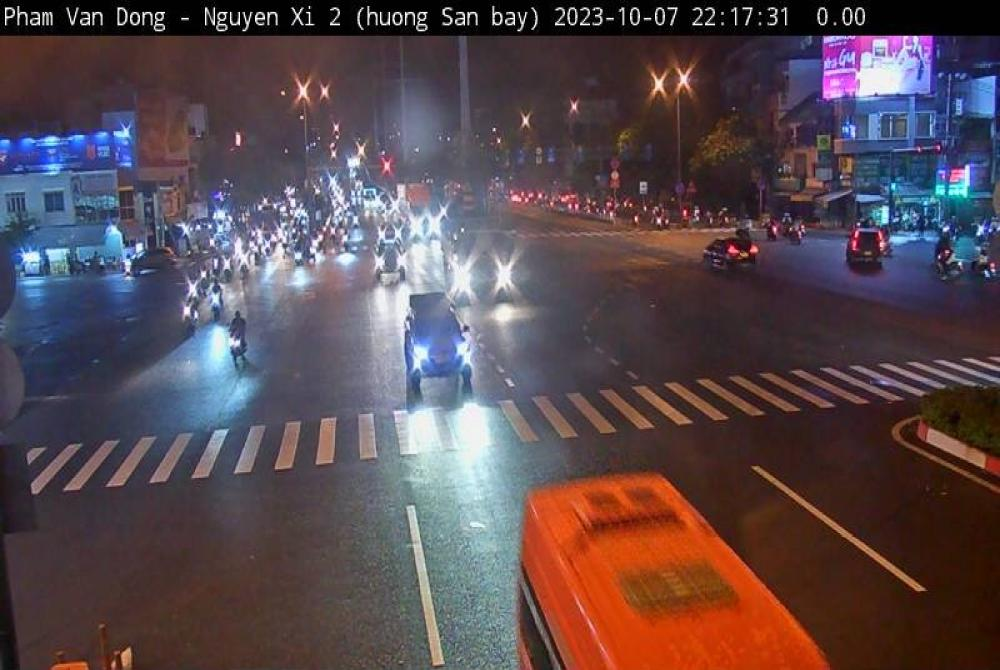bus: (514, 474, 832, 670)
car: (394, 298, 480, 398), (848, 228, 890, 265), (704, 239, 758, 267)
